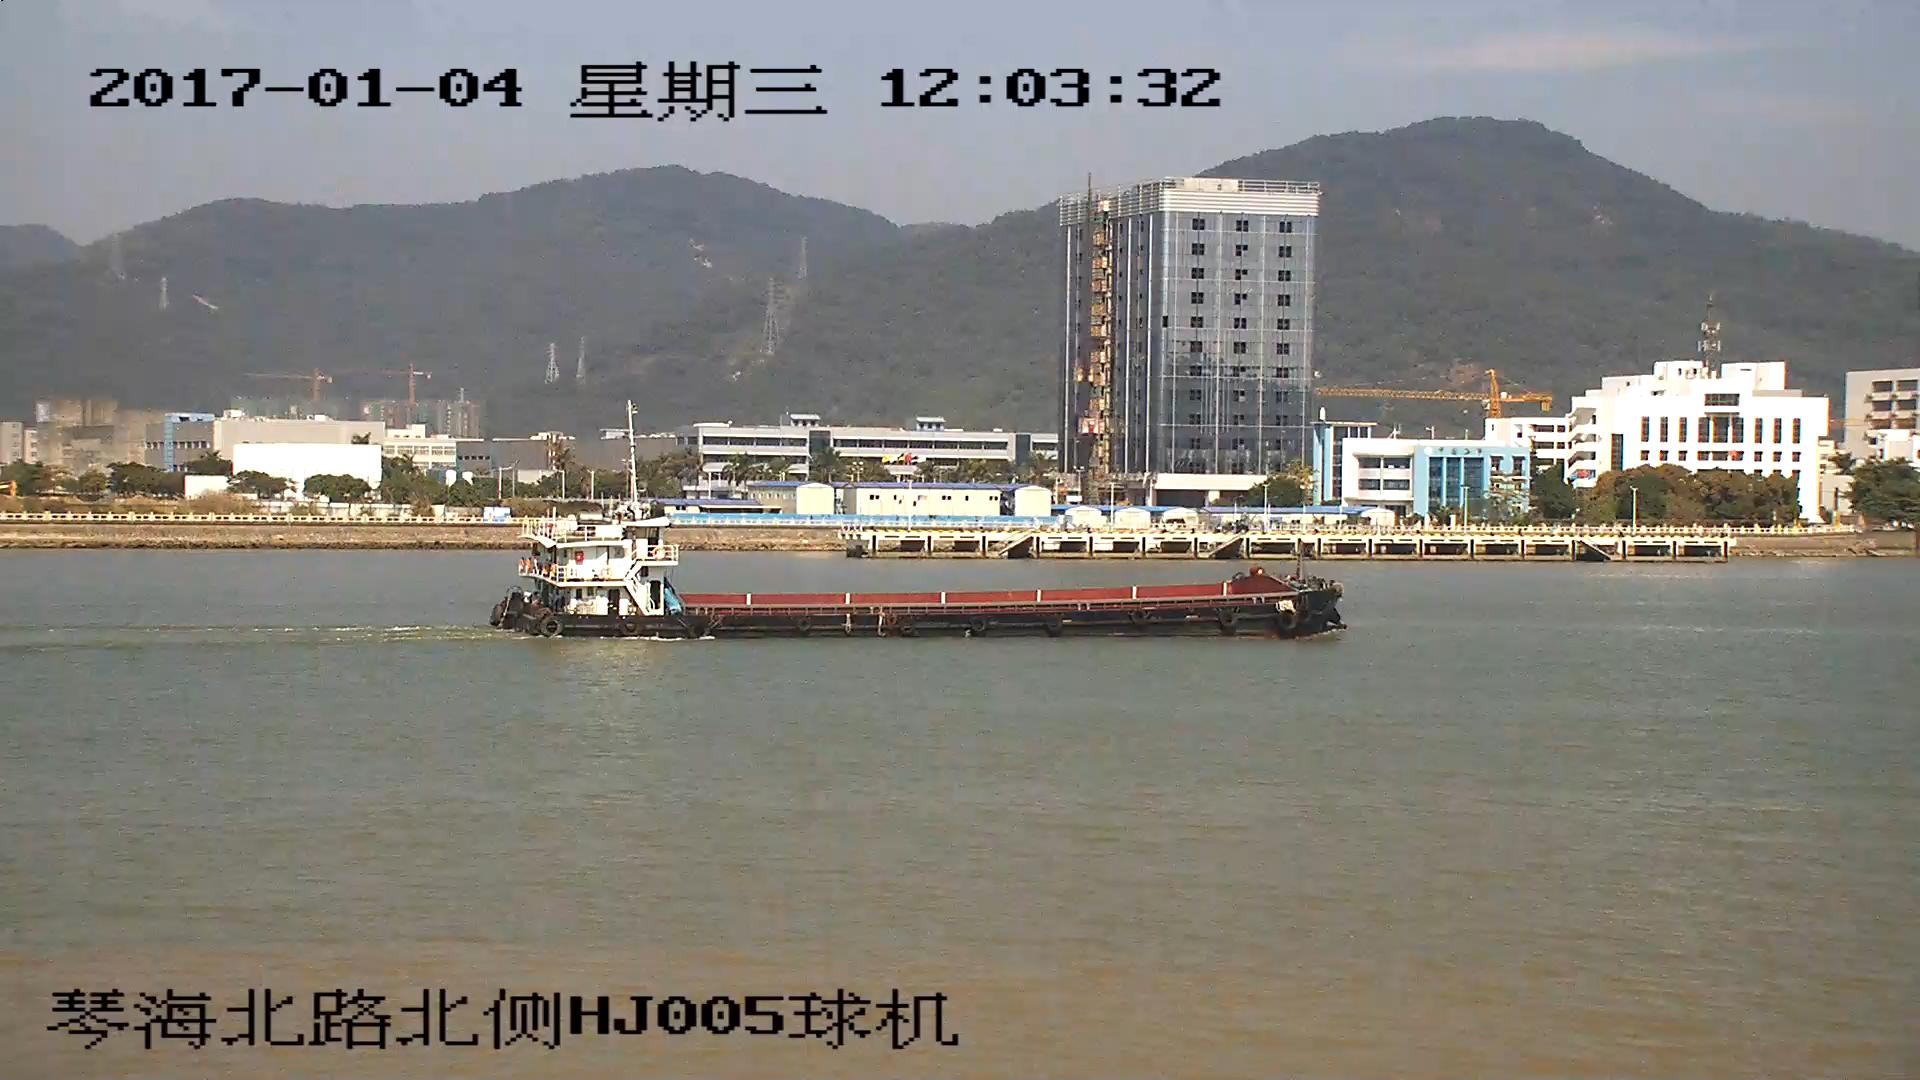general cargo ship: (495, 512, 1347, 640)
